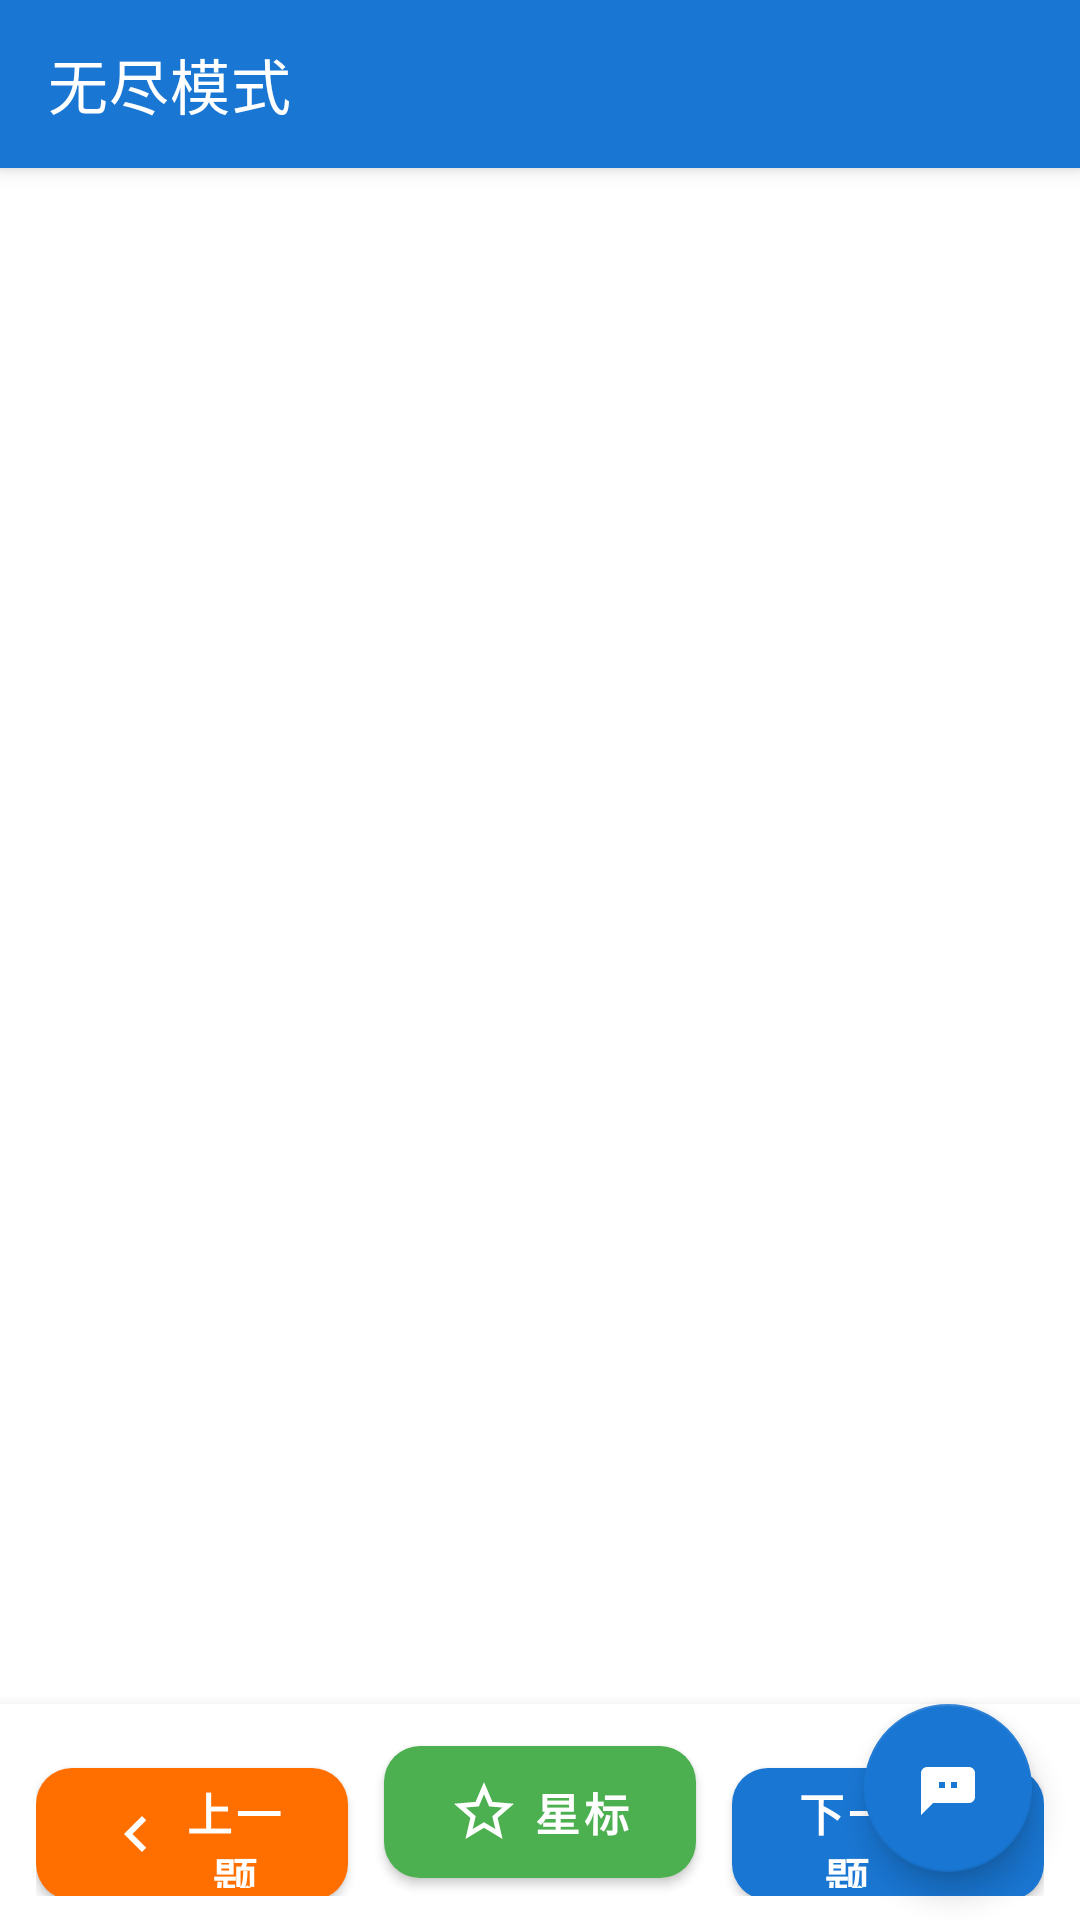

Icons on this 1080px×1920px Android screen, each with the point to tap as (x,y):
AI助手: (948,1788)
